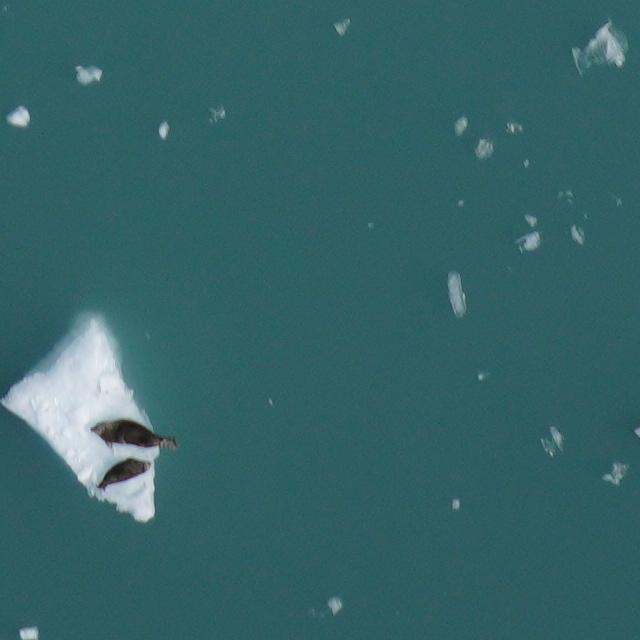seal: (91, 420, 176, 447), (98, 457, 152, 488)
